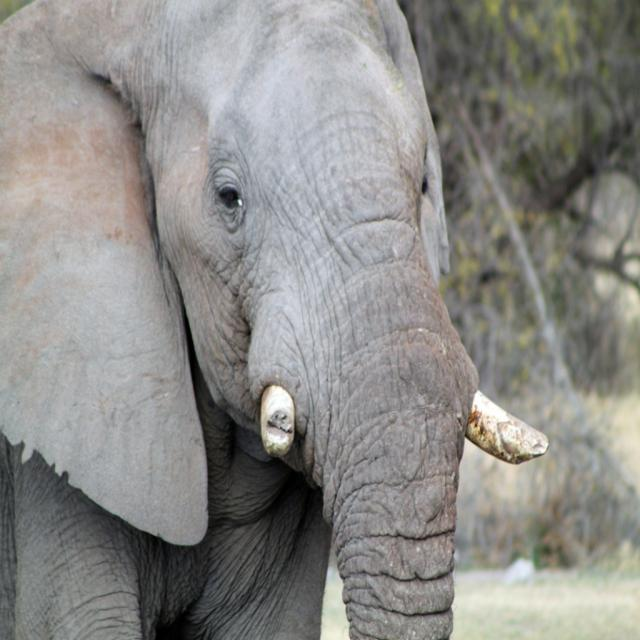Elephant: (0, 12, 529, 640)
